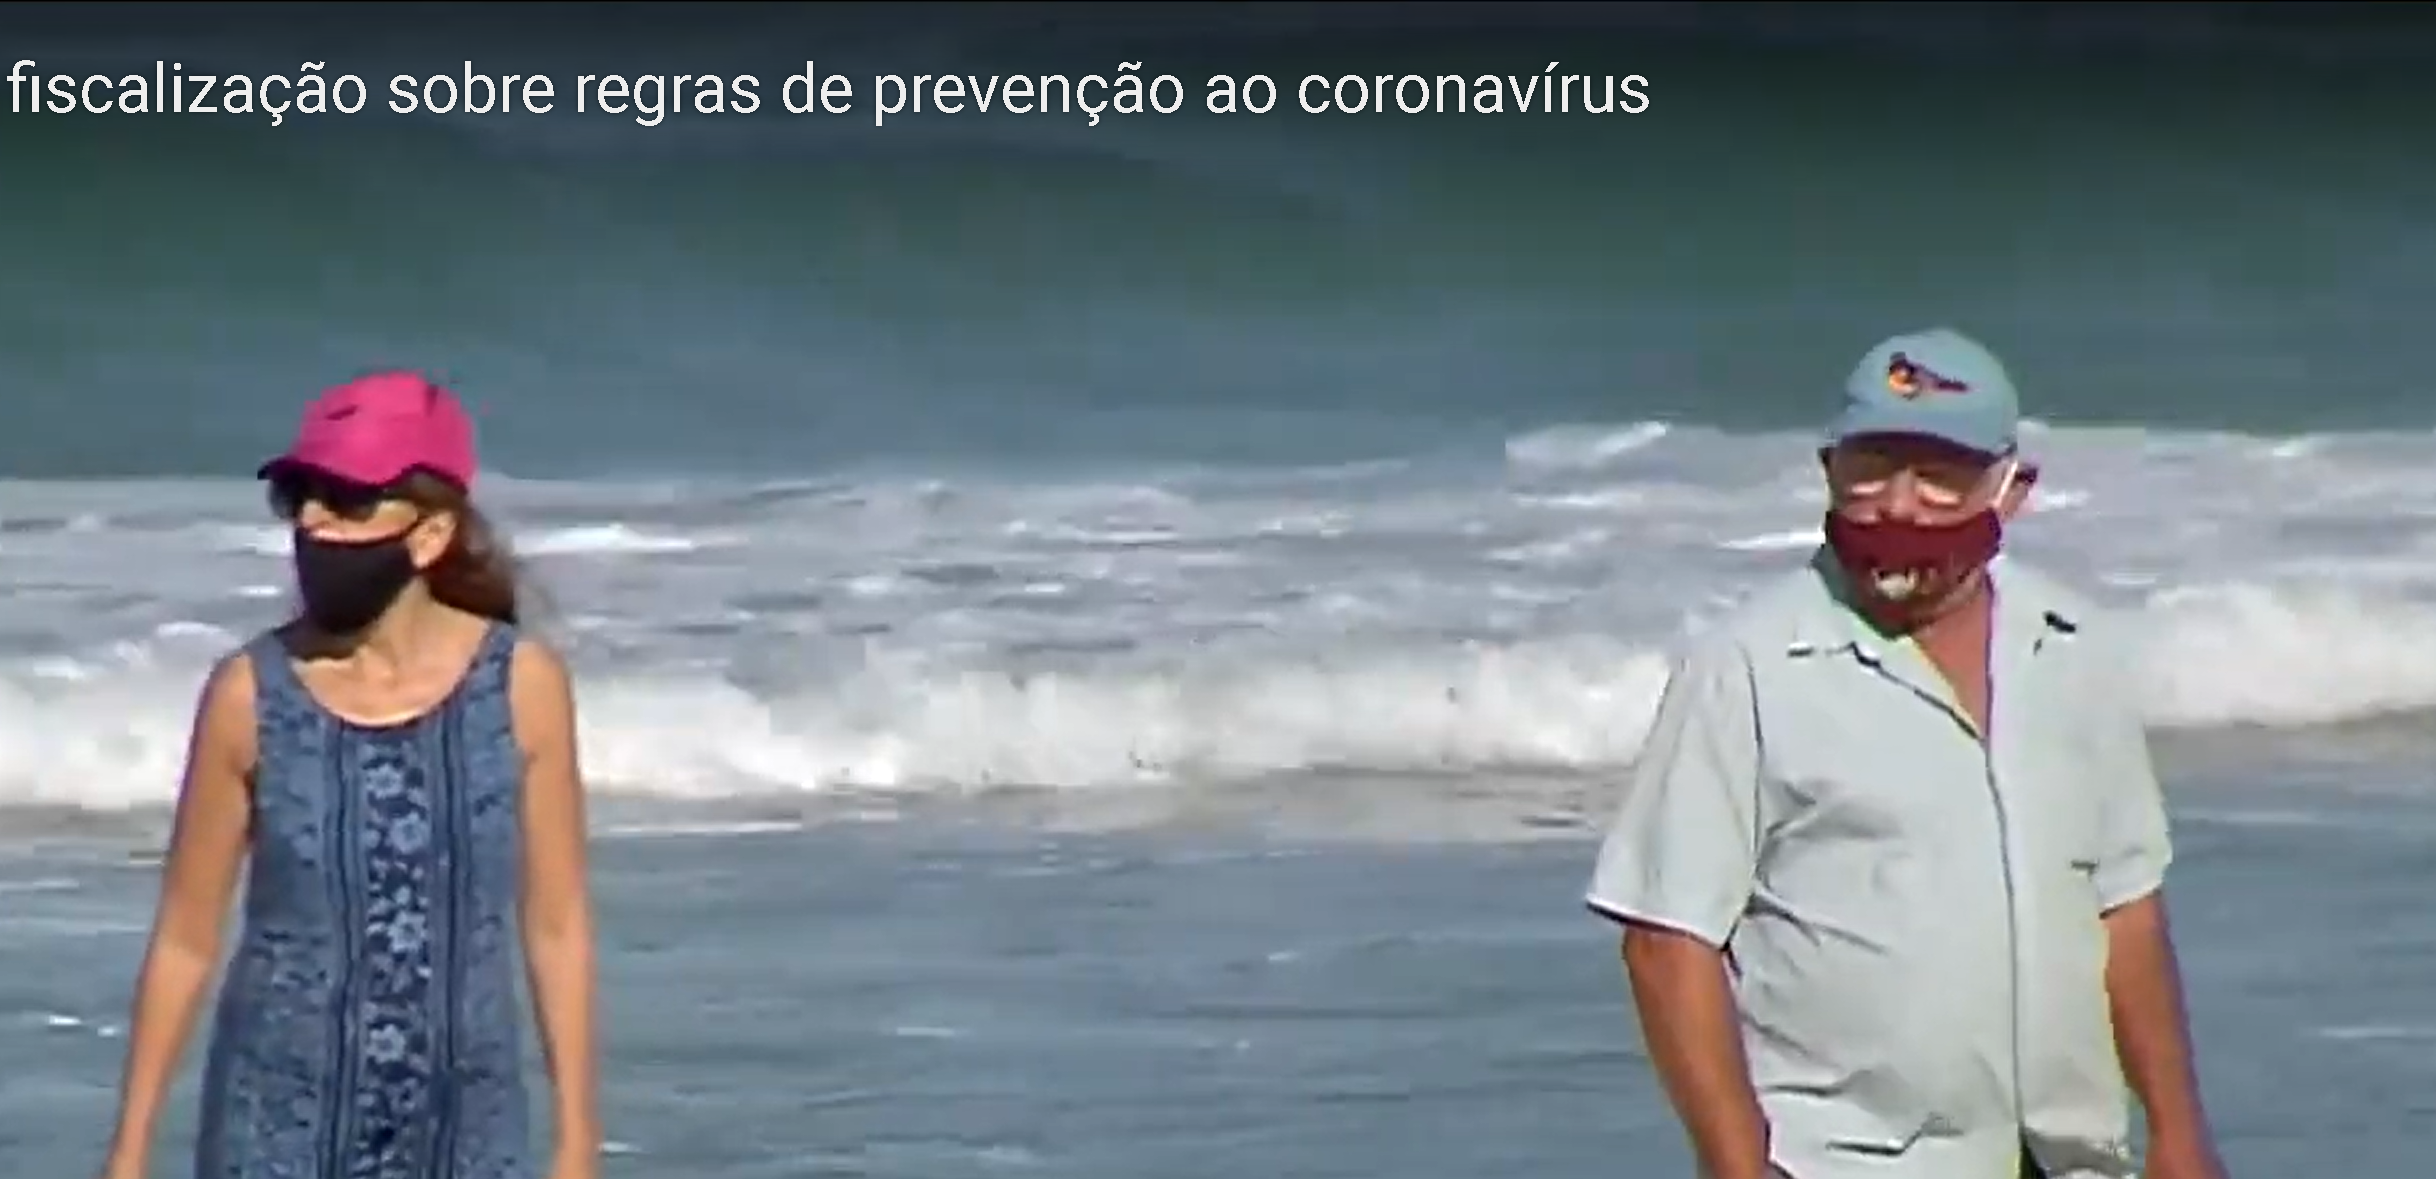mask_weared_incorrect: (1815, 423, 2049, 637), (267, 447, 475, 642)
